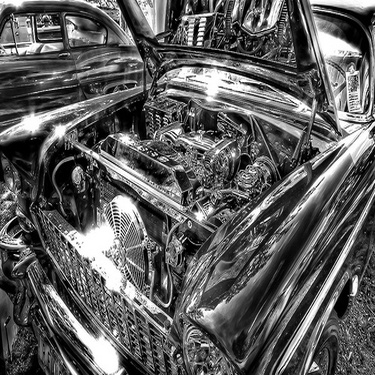car: (1, 40, 362, 354), (1, 1, 172, 85)
